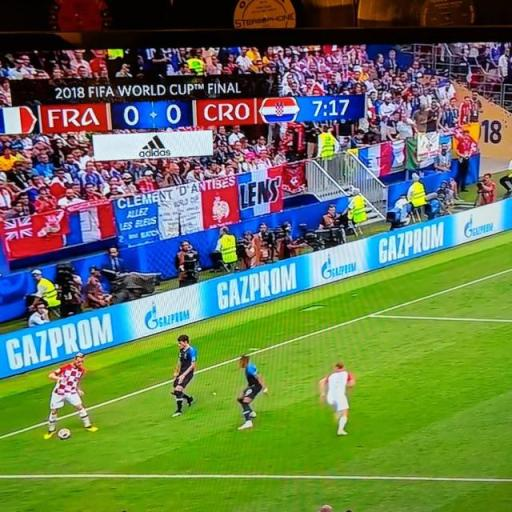Adidas: (135, 132, 173, 159)
